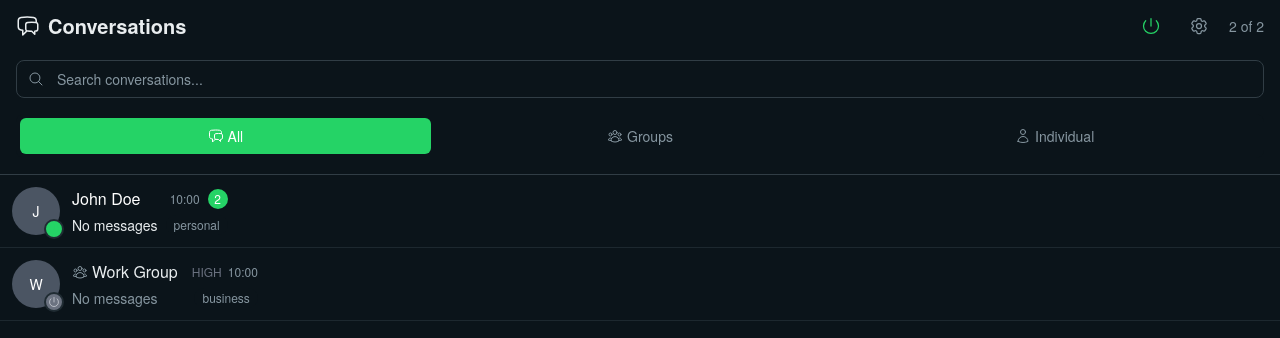
ConversationList › Tab Filtering › shows only individual conversations on "Individual" tab
Click the button "Individual".
click(1055, 136)  # box [849,118,1260,154]
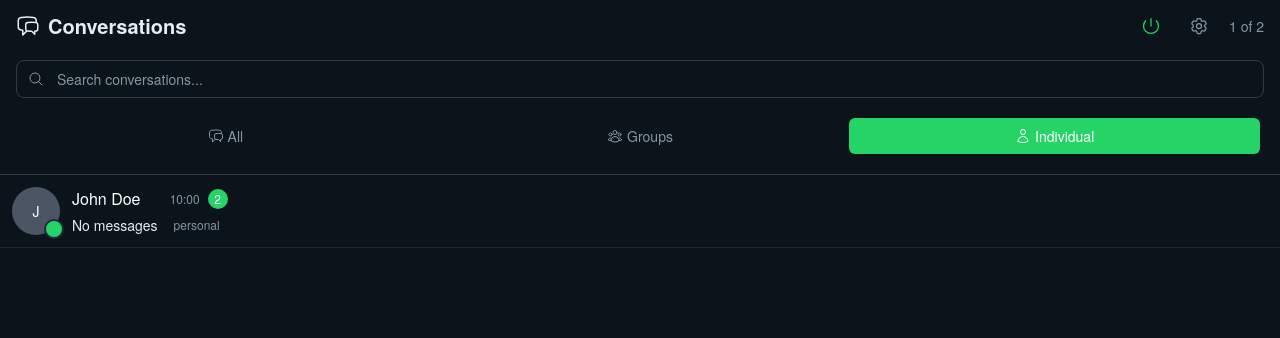
Expected: the heading "John Doe" is shown, [72,187,140,211]
Expected: the heading "Work Group" is gone
